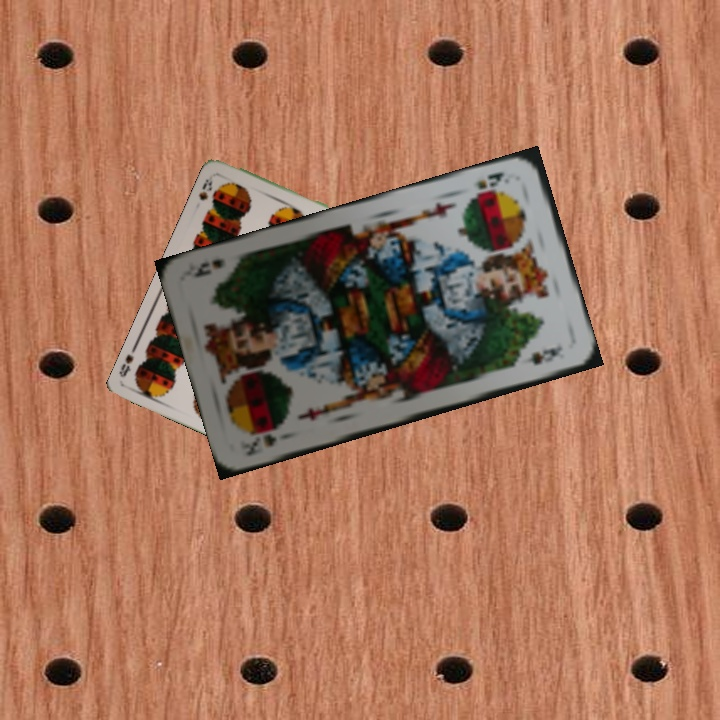S8: (194, 172, 216, 203)
SK: (236, 430, 279, 459), (472, 168, 506, 192)
